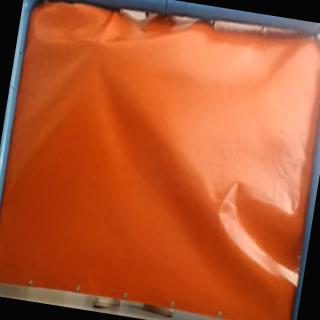Hit-hRxx: (92, 36, 112, 51)
